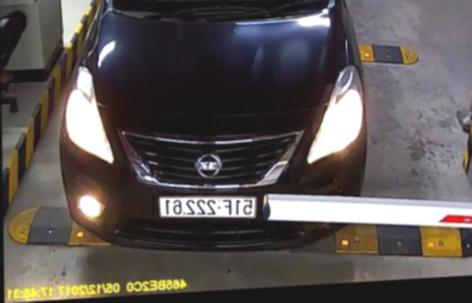License_Plate: (153, 188, 261, 229)
